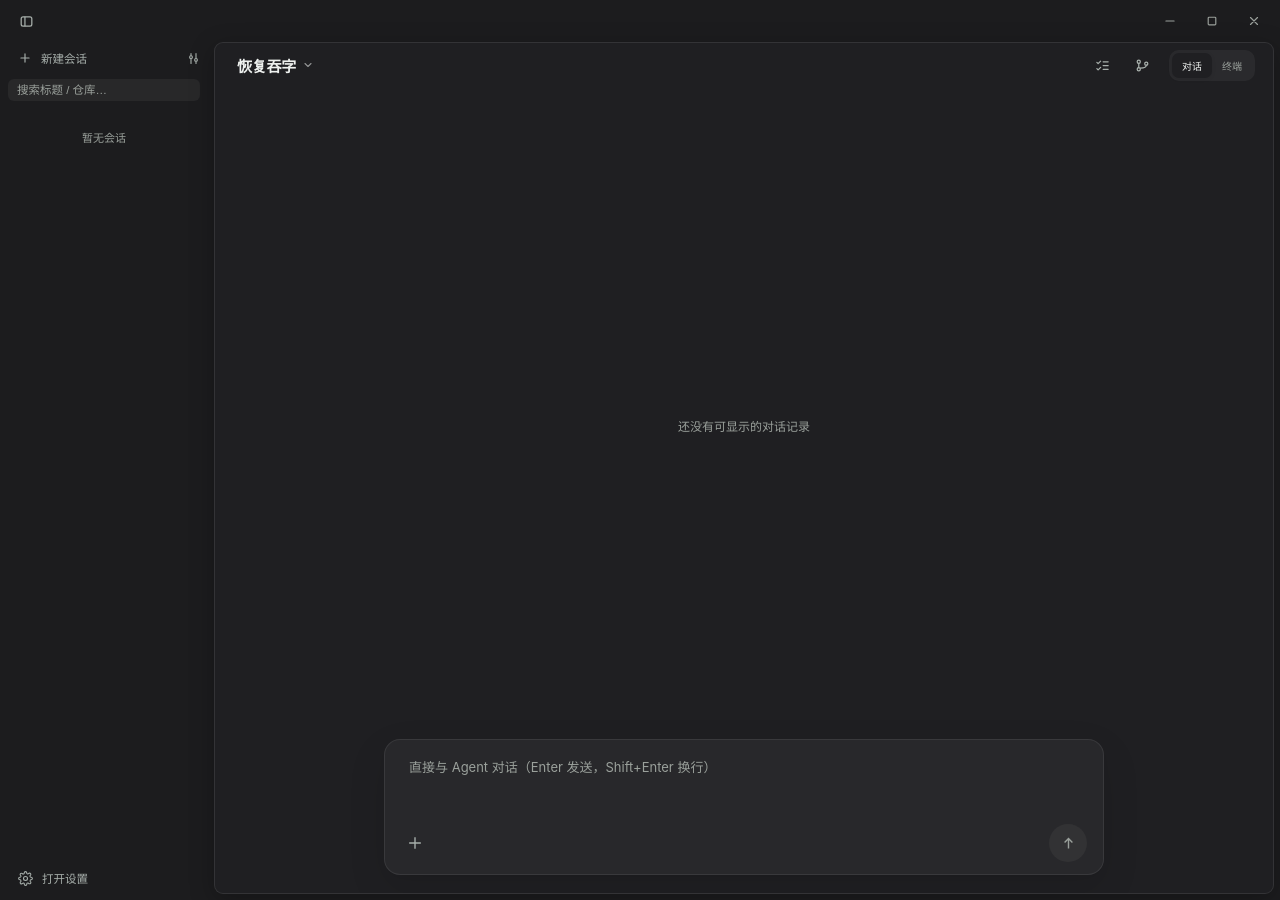
ChatWindow › 恢复后发送:正文没有回显时撤销发送、绝不发回车
Type "go on" into the dropdown named "发送消息给 Agent" at [744, 785], box [401,754,1087,816]
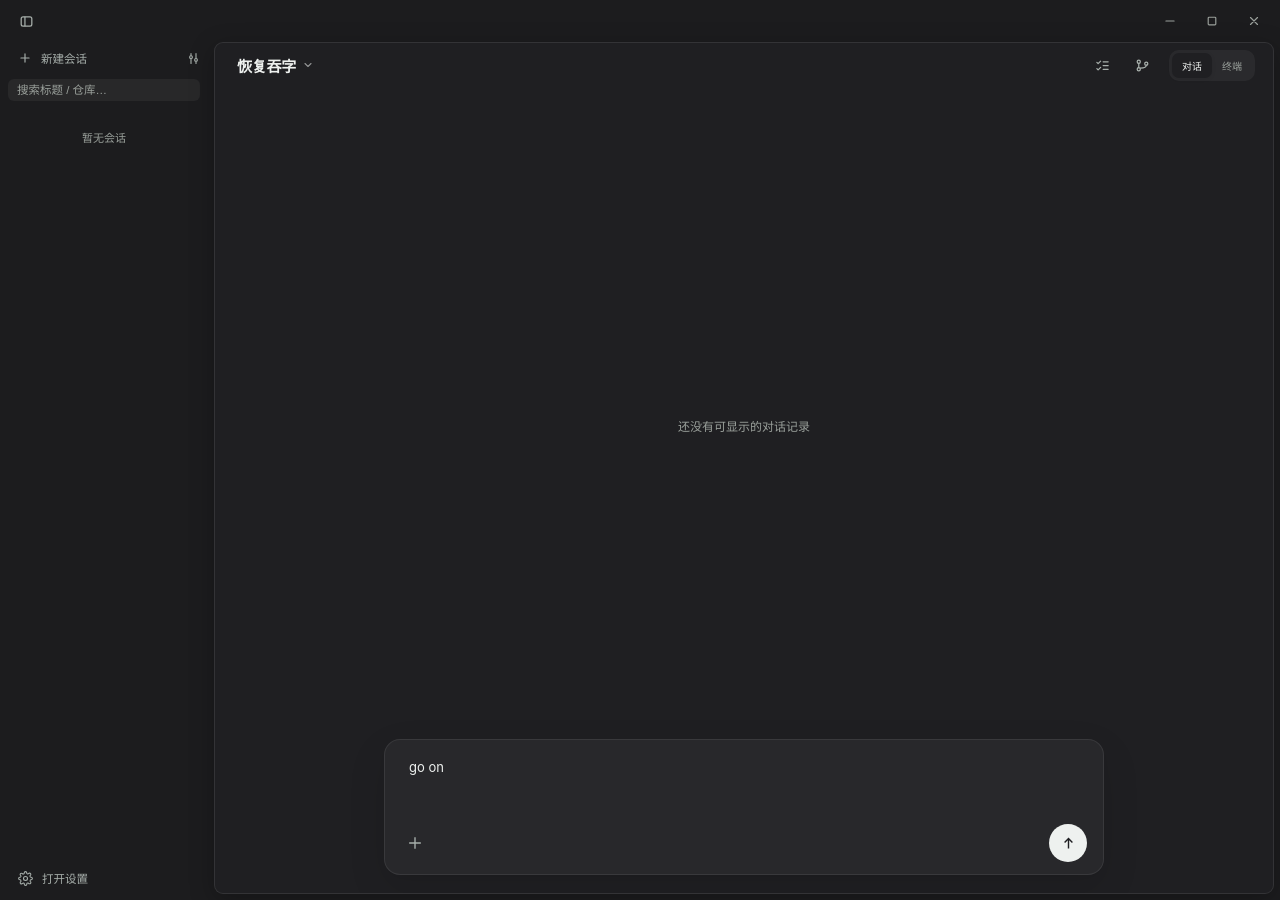
Click the button named "发送" at [1068, 843], box [1049,824,1087,862]
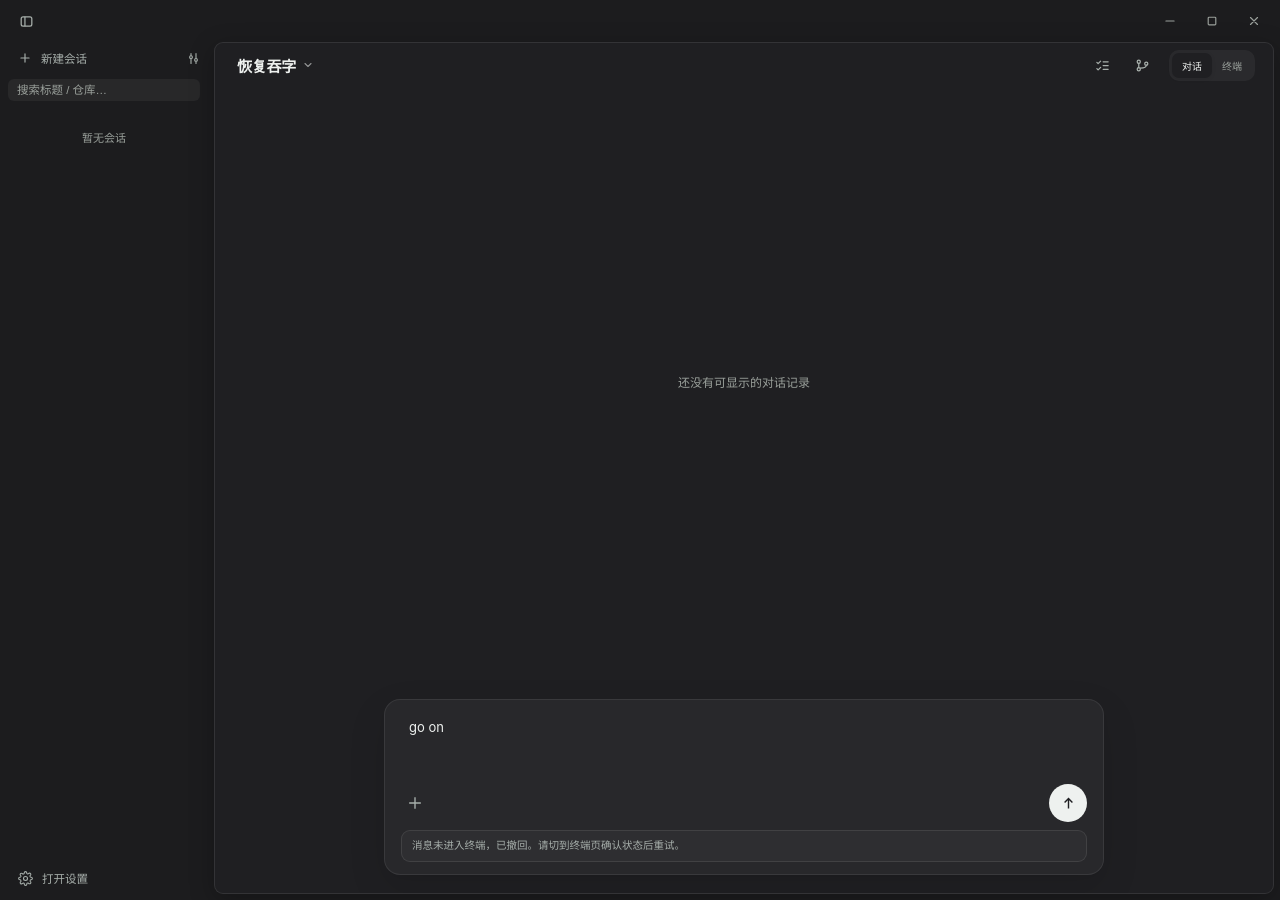
Check: the text "消息未进入终端，已撤回。请切到终端页确认状态后重试。" is shown, box [412,839,685,852]
